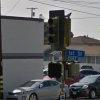Traffic light: (37, 5, 80, 56)
